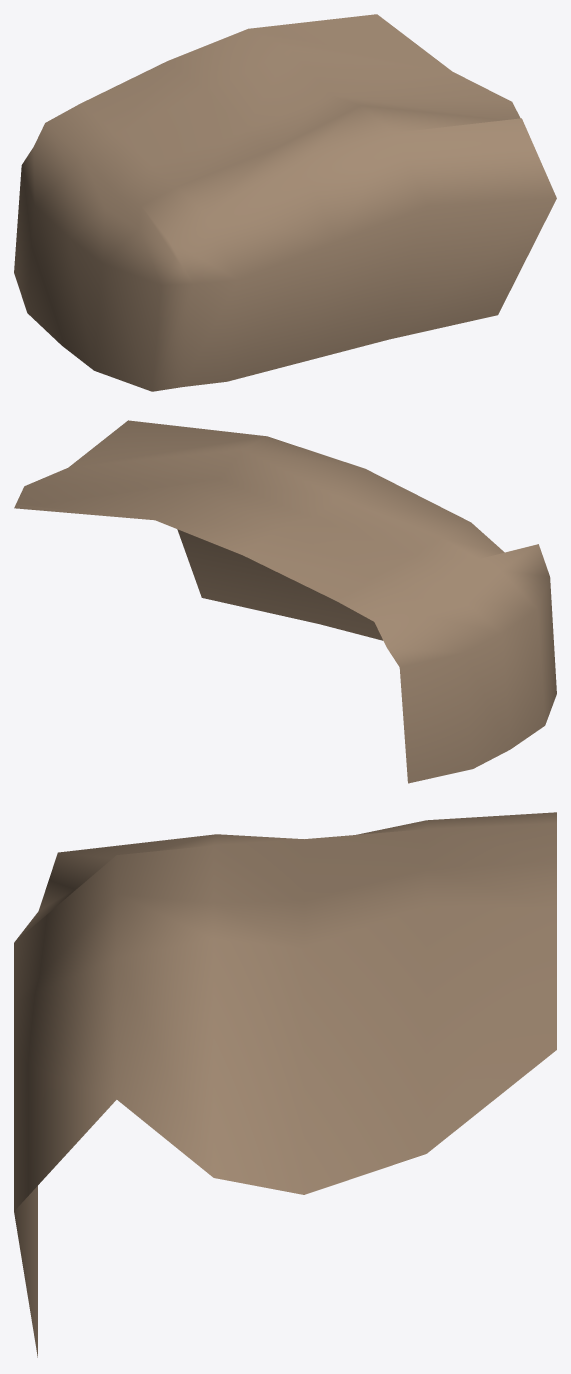
File: Steg_2.fbx
The picture shows the model from 3 angles, top to bottom: view 1: azimuth 30°, elevation 25°; view 2: azimuth 150°, elevation 25°; view 3: azimuth 270°, elevation 25°; orthographic projection. The views are drawn at different scales.
Parts seen in each view (by area): view 1: Steg_2; view 2: Steg_2; view 3: Steg_2.
Boxes of the visible parts, <box> form: Steg_2: <box>14,14,556,391</box>; Steg_2: <box>14,420,556,783</box>; Steg_2: <box>14,812,556,1357</box>.
Size of the model in its own units: 3106 by 1379 by 1832.
